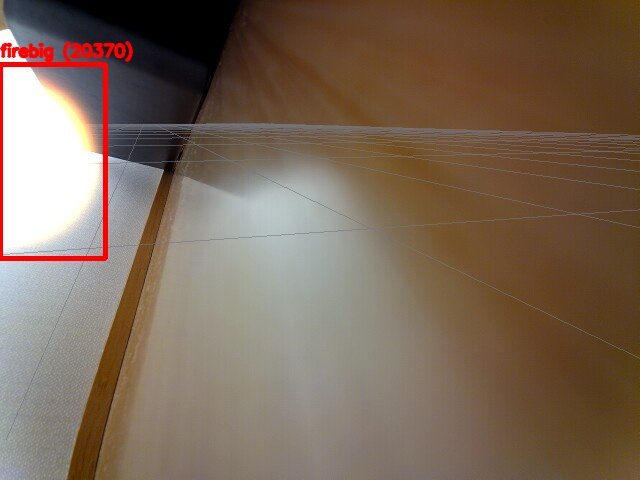firebig: (0, 64, 105, 258)
